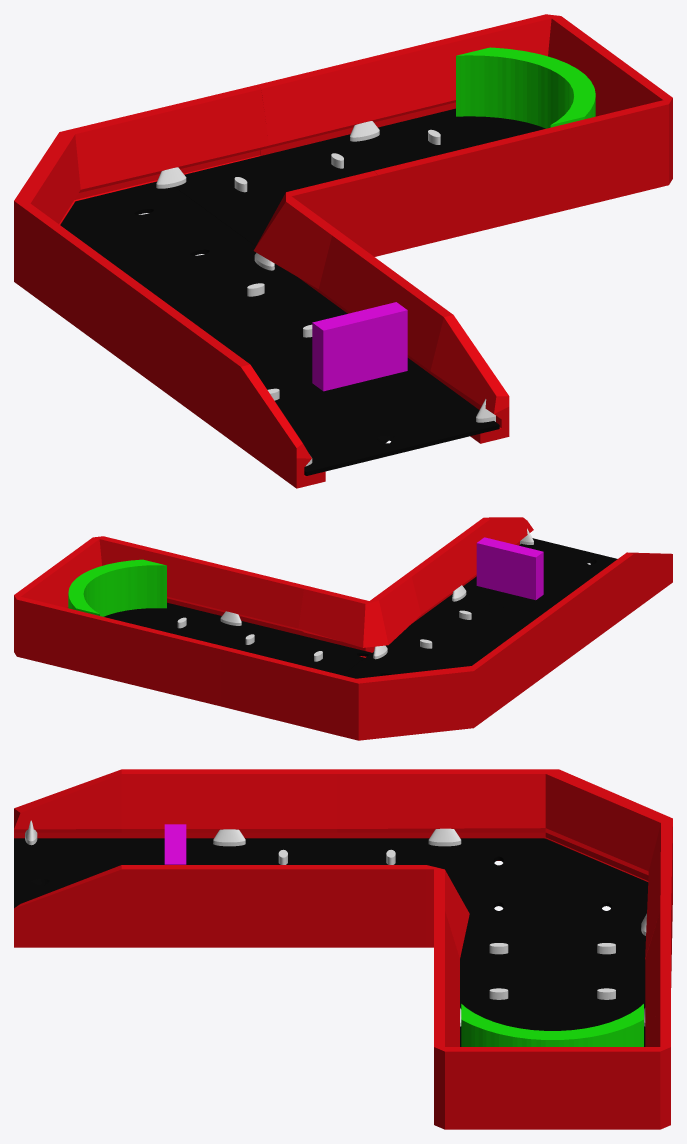
Rendered from mikrogolf-rata3.fbx.
3 renders of one model, top to bottom at view 1: azimuth 30°, elevation 25°; view 2: azimuth 150°, elevation 25°; view 3: azimuth 270°, elevation 25°, orthographic. The views are drawn at different scales.
Visible parts, largest first — view 1: Cube.133, Cube.200, Plane.058, Cube.201, Plane.056, Cube.137, Plane.057, Cube.159, Plane.060, Cube.140, Cube.132, Cube.160 (+5 smaller); view 2: Cube.133, Cube.201, Cube.200, Plane.057, Cube.132, Cube.138, Cube.159, Cube.140, Plane.058, Plane.060, Cube.160, Cube.139 (+5 smaller); view 3: Cube.133, Cube.160, Plane.060, Plane.056, Cube.159, Cube.137, Cube.138, Cube.132, Plane.058, Cube.131, Plane.057, Cube.135 (+5 smaller).
Part boxes in pixels (left/top/right/bottom): Cube.133: left=14, top=85, right=268, bottom=365; Cube.200: left=373, top=124, right=571, bottom=255; Plane.058: left=257, top=358, right=499, bottom=475; Cube.201: left=256, top=38, right=456, bottom=155; Plane.056: left=60, top=181, right=258, bottom=291; Cube.137: left=567, top=57, right=672, bottom=208; Plane.057: left=152, top=264, right=347, bottom=374; Cube.159: left=129, top=282, right=249, bottom=447; Plane.060: left=175, top=134, right=400, bottom=245; Cube.140: left=456, top=47, right=595, bottom=128; Cube.132: left=253, top=171, right=378, bottom=303; Cube.160: left=318, top=233, right=453, bottom=385; Cube.133: left=221, top=610, right=554, bottom=740; Cube.201: left=85, top=613, right=224, bottom=706; Cube.200: left=166, top=553, right=307, bottom=635; Plane.057: left=372, top=595, right=538, bottom=669; Cube.132: left=298, top=575, right=420, bottom=657; Cube.138: left=14, top=566, right=88, bottom=673; Cube.159: left=548, top=552, right=633, bottom=668; Cube.140: left=68, top=559, right=166, bottom=616; Plane.058: left=451, top=538, right=617, bottom=616; Plane.060: left=206, top=621, right=371, bottom=674; Cube.160: left=405, top=517, right=495, bottom=623; Cube.139: left=476, top=537, right=543, bottom=600; Cube.133: left=337, top=769, right=672, bottom=987; Cube.160: left=121, top=865, right=337, bottom=947; Plane.060: left=460, top=929, right=645, bottom=1020; Plane.056: left=445, top=838, right=648, bottom=929; Cube.159: left=121, top=769, right=337, bottom=838; Cube.137: left=434, top=1001, right=552, bottom=1129; Cube.138: left=552, top=1001, right=670, bottom=1129; Cube.132: left=337, top=865, right=469, bottom=958; Plane.058: left=14, top=838, right=229, bottom=908; Cube.131: left=14, top=865, right=121, bottom=947; Plane.057: left=229, top=838, right=444, bottom=869; Cube.135: left=14, top=769, right=121, bottom=838.
Size of the model in its own units: 31 by 4.08 by 30.59.
